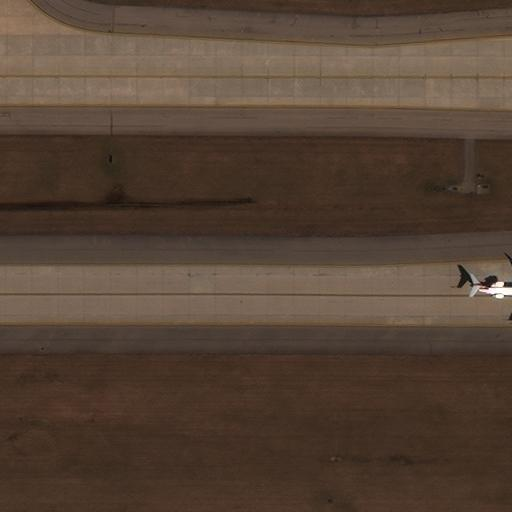Medium Civil Transport: (470, 259, 511, 320)
